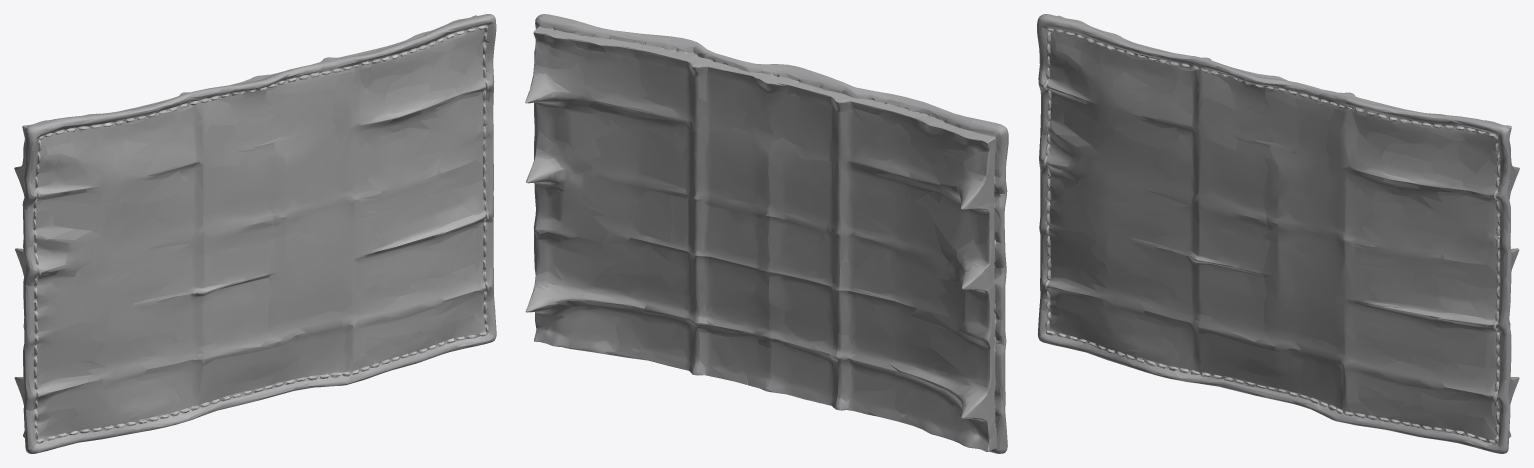
File: deskmat.glb
The picture shows the model from 3 angles, left to right: view 1: azimuth 30°, elevation 25°; view 2: azimuth 150°, elevation 25°; view 3: azimuth 330°, elevation 25°; orthographic projection.
Size of the model in its own units: 1.9 by 1.26 by 0.2843.
1 material, 1 textured.
